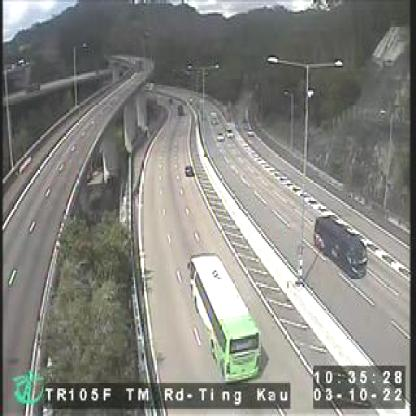Bus: (186, 253, 261, 381)
Car: (313, 215, 368, 276), (184, 164, 192, 176), (216, 132, 225, 142), (225, 127, 234, 135)
